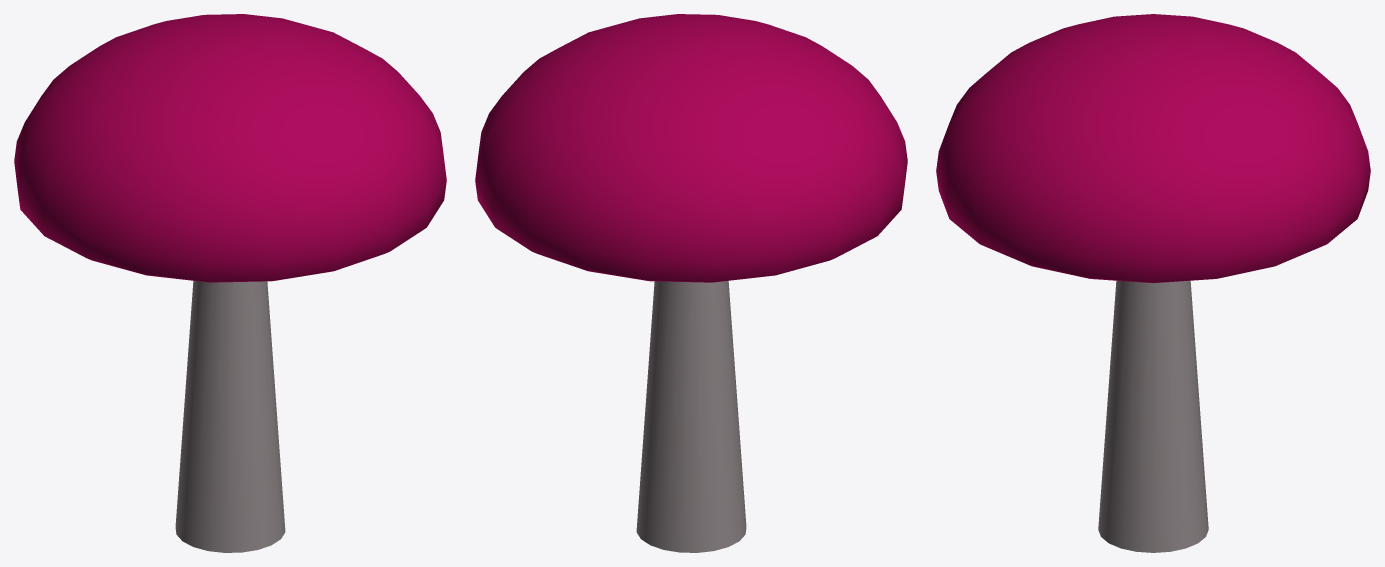
Rendered from Mushroom.fbx.
3 views of the same model, side by side, from view 1: azimuth 30°, elevation 25°; view 2: azimuth 150°, elevation 25°; view 3: azimuth 270°, elevation 25° (orthographic).
Parts seen in each view (by area): view 1: Mushroom; view 2: Mushroom; view 3: Mushroom.
Part boxes in pixels (box(x1,y1,x2,y2)): Mushroom: box(14, 14, 446, 552); Mushroom: box(475, 14, 907, 552); Mushroom: box(936, 14, 1370, 552).
Size of the model in its own units: 2 by 2.48 by 2.
